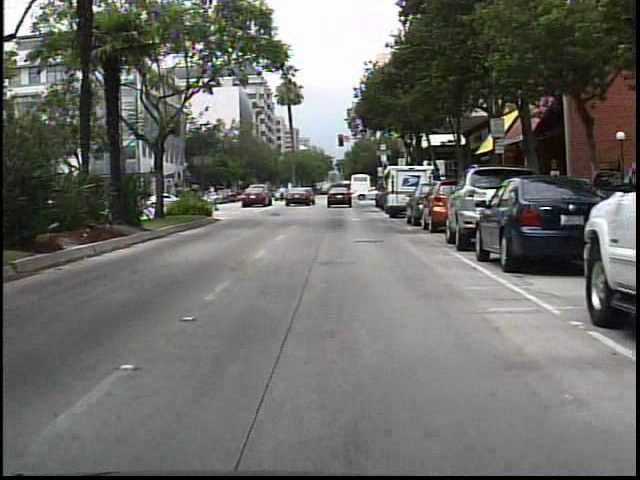person: (276, 181, 290, 205), (292, 183, 305, 205)
